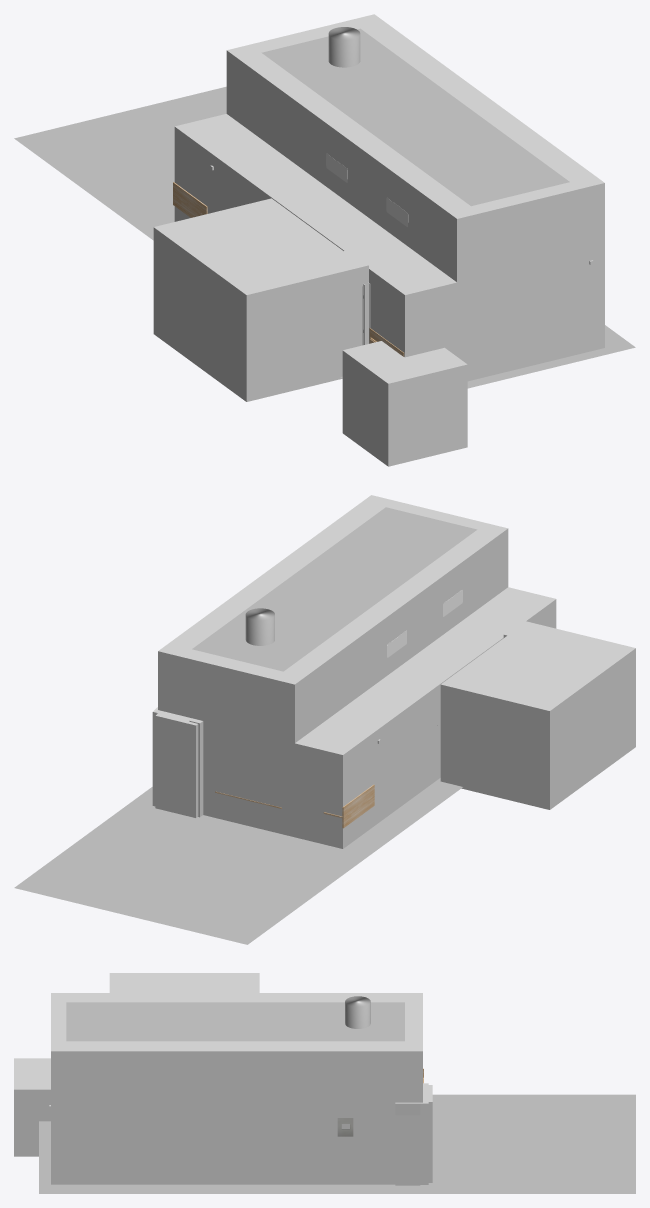
The model's file is arena model 1213.fbx.
3 renders of one model, top to bottom at view 1: azimuth 30°, elevation 25°; view 2: azimuth 150°, elevation 25°; view 3: azimuth 270°, elevation 25°, orthographic. The views are drawn at different scales.
Parts seen in each view (by area): view 1: walls, floor, Cube, Cylinder.001, Cube.016; view 2: walls, floor, Cube.017, Cylinder.001, Cube.016; view 3: walls, floor, Cube, Cylinder.001, Cube.017.
Part boxes in pixels (bbox=[...]): walls: bbox=[153, 14, 604, 401]; floor: bbox=[14, 86, 635, 388]; Cube: bbox=[342, 341, 467, 466]; Cylinder.001: bbox=[328, 27, 360, 67]; Cube.016: bbox=[173, 182, 207, 217]; walls: bbox=[152, 495, 635, 848]; floor: bbox=[14, 778, 462, 944]; Cube.017: bbox=[155, 713, 198, 817]; Cylinder.001: bbox=[245, 608, 274, 645]; Cube.016: bbox=[342, 784, 374, 828]; walls: bbox=[51, 973, 428, 1185]; floor: bbox=[39, 1094, 635, 1193]; Cube: bbox=[14, 1058, 50, 1156]; Cylinder.001: bbox=[345, 996, 370, 1028]; Cube.017: bbox=[428, 1085, 432, 1182].
Size of the model in its own units: 873 by 569 by 1684.
